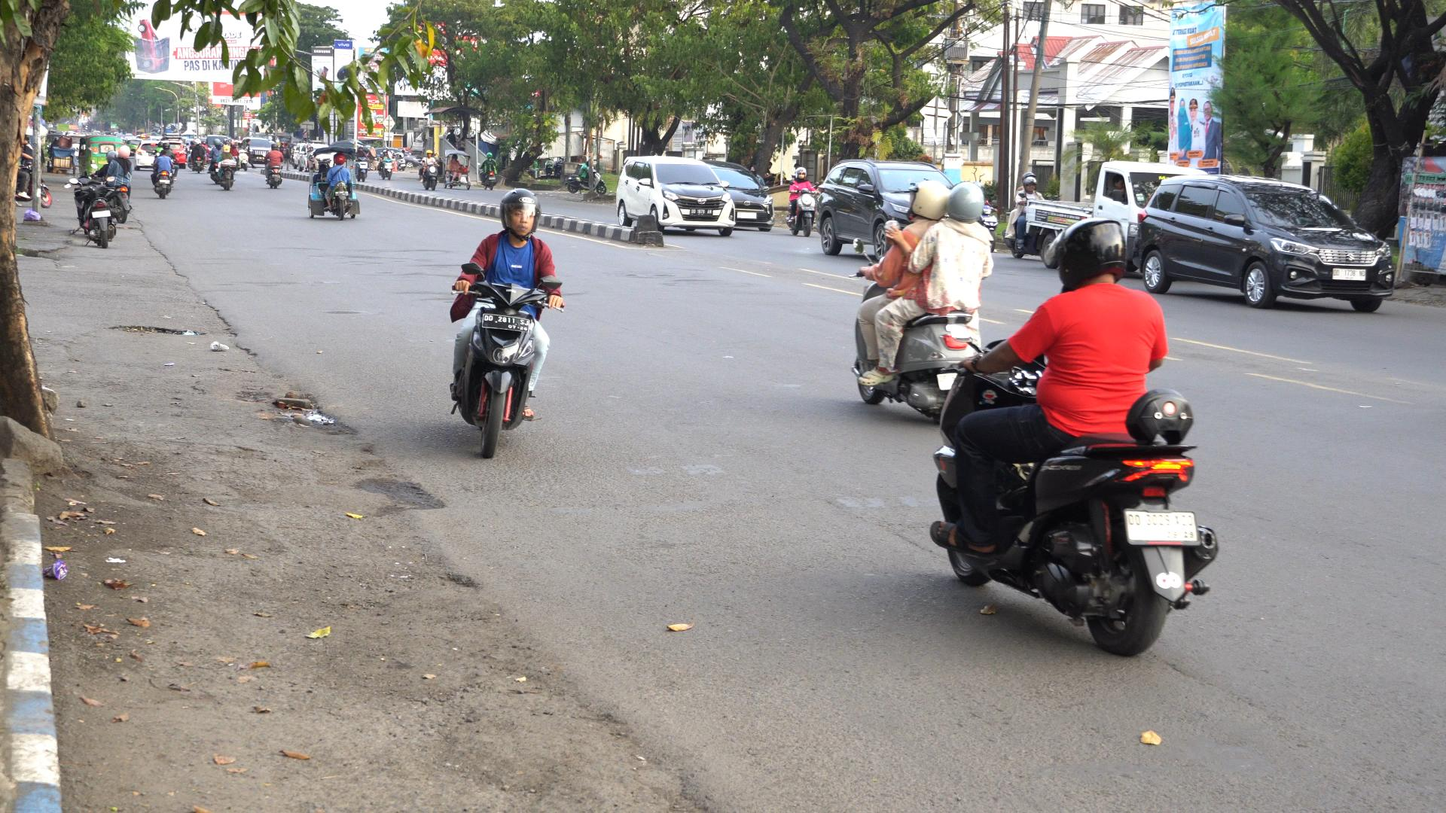number-plate: (481, 311, 531, 332)
